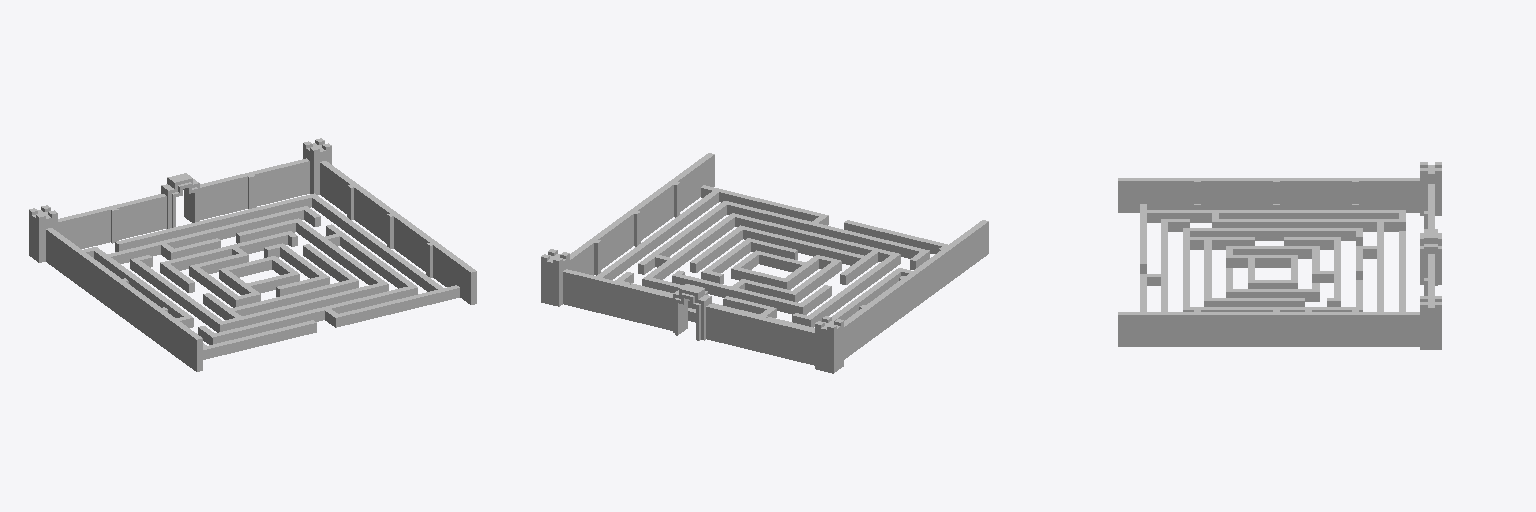
File: 01_maze_2X_02.obj
3 renders of one model, left to right at view 1: azimuth 30°, elevation 25°; view 2: azimuth 150°, elevation 25°; view 3: azimuth 270°, elevation 25°, orthographic.
Bounding box in the file's own units: 94 × 14 × 90.